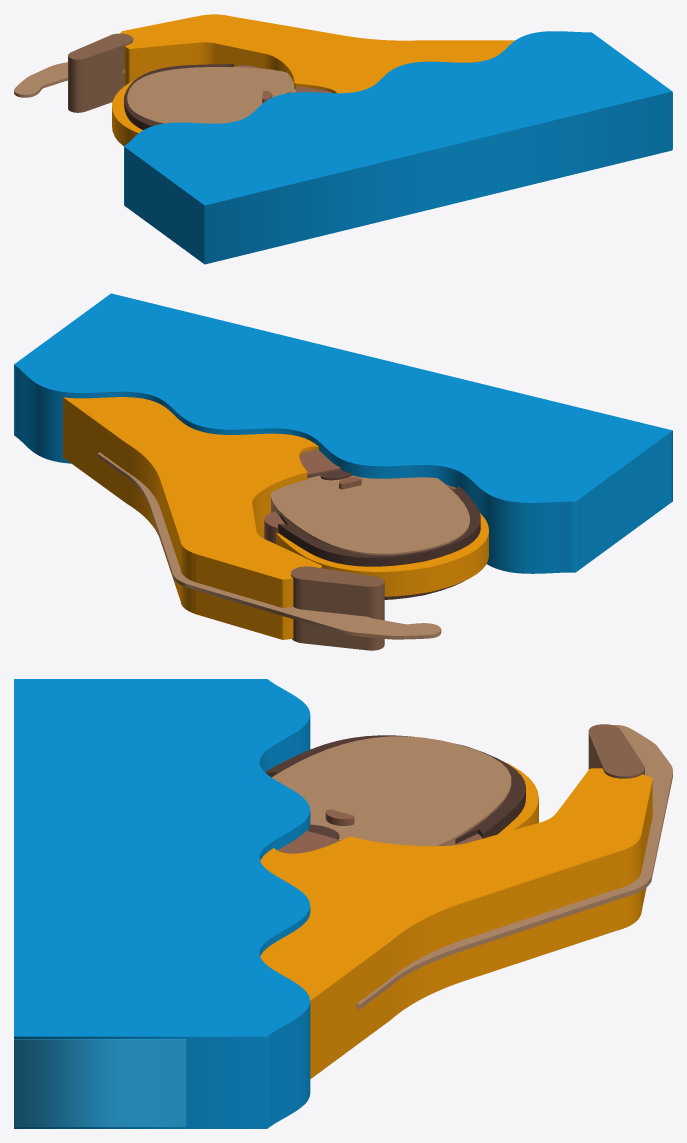
File: emoji_u1f3ca_1f3fd.glb
3 renders of one model, top to bottom at view 1: azimuth 30°, elevation 25°; view 2: azimuth 150°, elevation 25°; view 3: azimuth 270°, elevation 25°, orthographic. The views are drawn at different scales.
Parts seen in each view (by area): view 1: emoji_u1f3ca_1f3fd; view 2: emoji_u1f3ca_1f3fd; view 3: emoji_u1f3ca_1f3fd.
Boxes of the visible parts, x1,y1,x2,y2 form: emoji_u1f3ca_1f3fd: [14, 14, 672, 264]; emoji_u1f3ca_1f3fd: [14, 293, 672, 650]; emoji_u1f3ca_1f3fd: [14, 679, 672, 1128].
Size of the model in its own units: 0.0332 by 0.004 by 0.0258.
